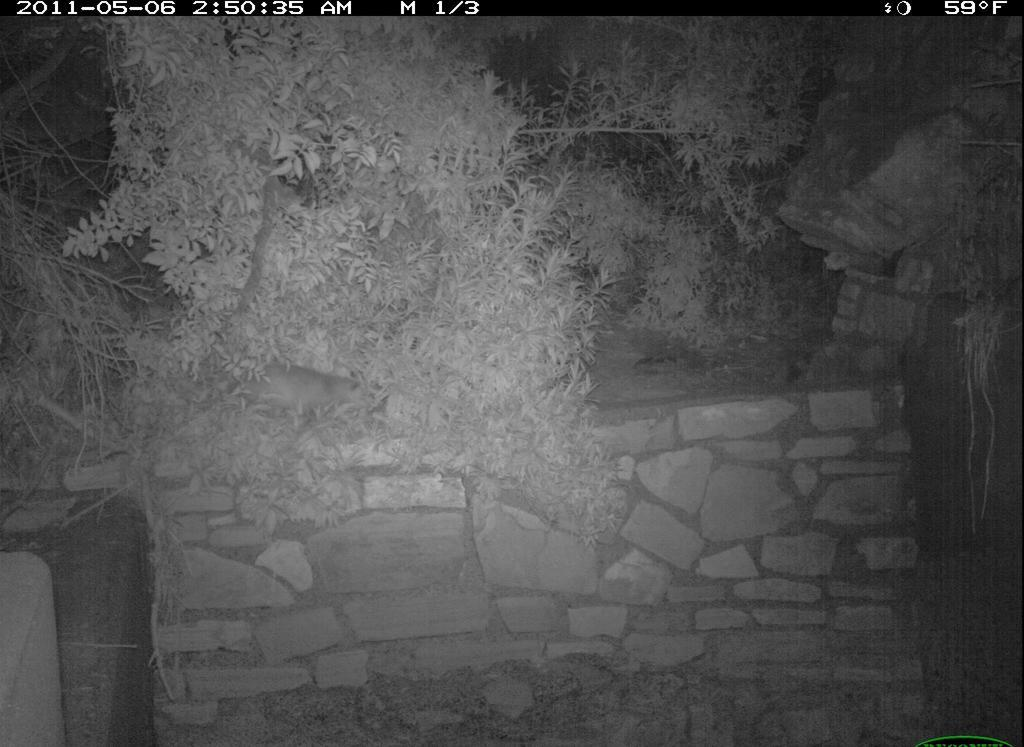opossum: (228, 357, 382, 430)
